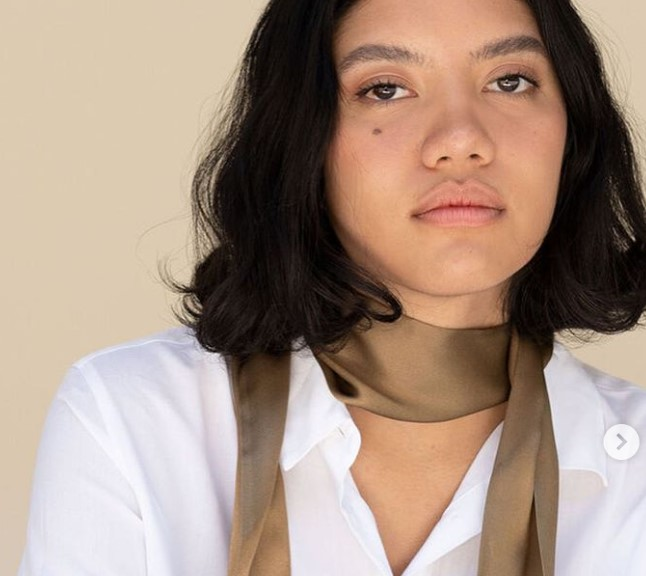face_no_mask: (255, 1, 591, 323)
